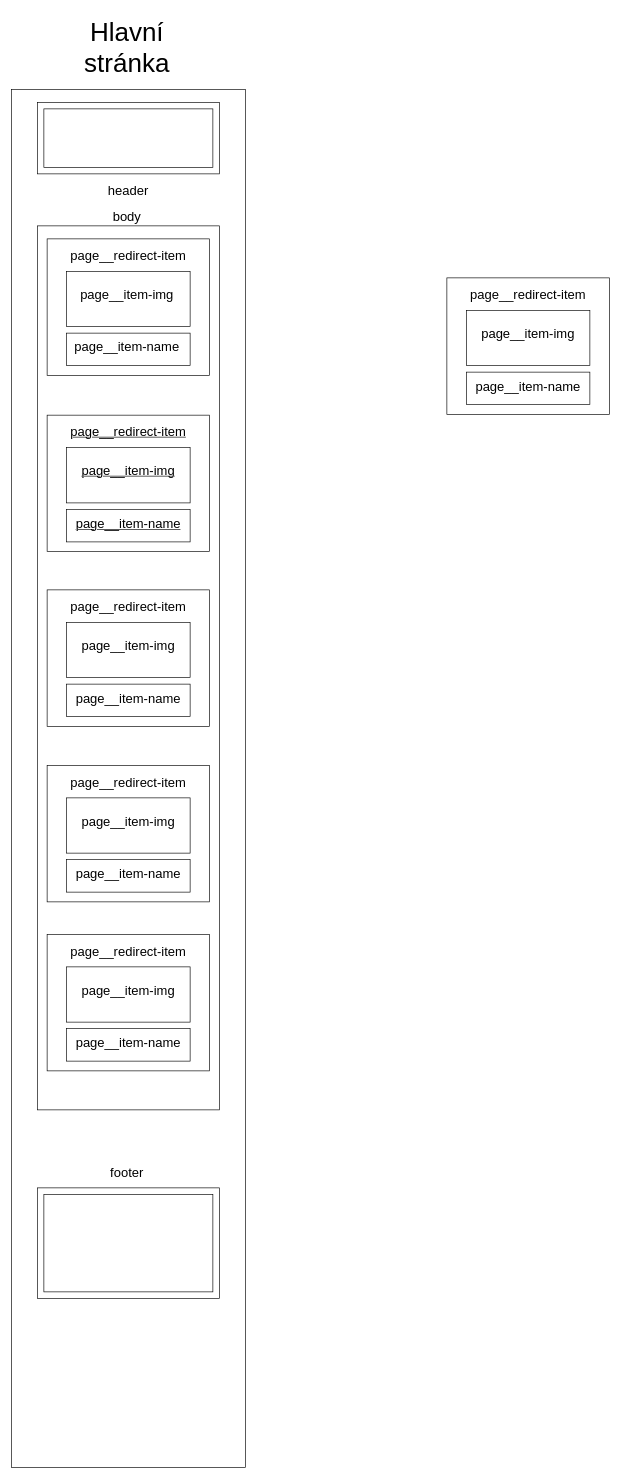
Some shapes in this 621 by 1479 pixel diagram are drawn without their labels. The centre of each missing label's shape, as x and y in pixels:
"footer__redirect-contact" belongs at (x=128, y=1243).
"header__title" belongs at (x=128, y=137).
